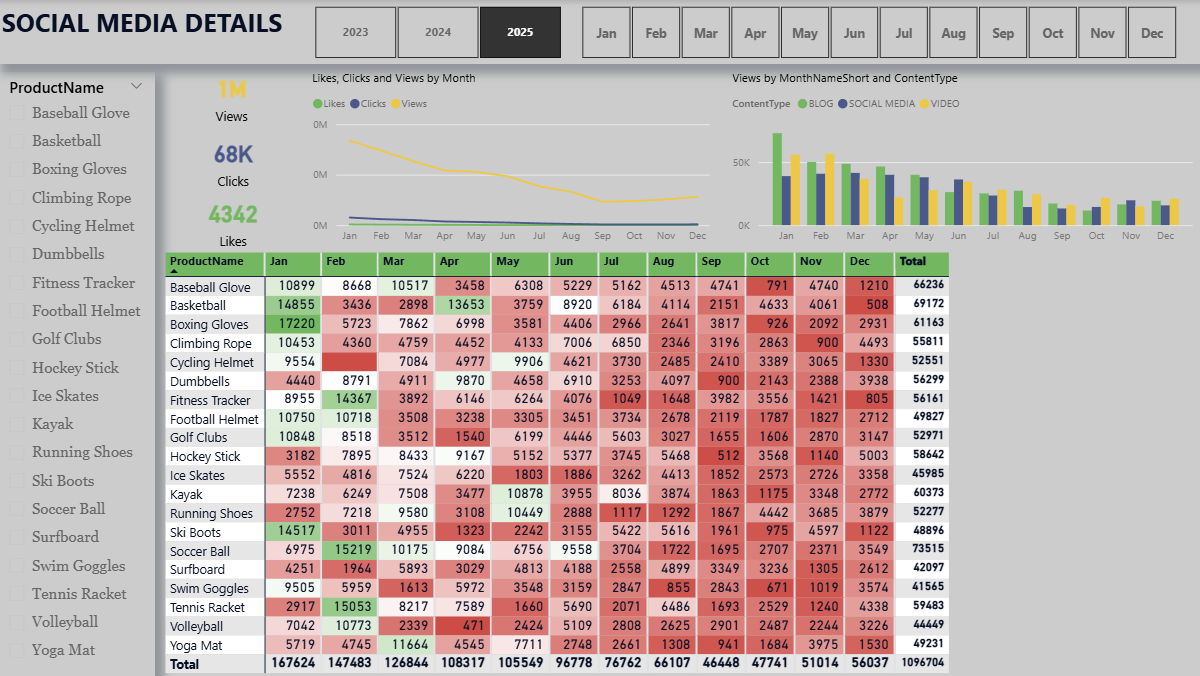

Layout of this report page (visuals, bound fields, positions):
{"tool":"powerbi","page":{"name":"Social Media Details","canvas":[1280,720],"ordinal":2},"visuals":[{"type":"textbox","box":[0,0,1280,68],"z":0},{"type":"slicer","fields":{"Values":["dim_products.ProductName"]},"box":[0,75.6,167.2,643.3],"z":1000},{"type":"card","title":"VIEWS","fields":{"Values":["_measure.Views"]},"box":[173.3,68.3,150,66.7],"z":2000},{"type":"card","title":"CLICKS","fields":{"Values":["_measure.Clicks"]},"box":[173.3,138.3,153.3,65],"z":3000},{"type":"card","title":"LIKES","fields":{"Values":["_measure.Likes"]},"box":[173.3,201.7,153.3,65],"z":4000},{"type":"slicer","fields":{"Values":["Calendar.Date.Variation.Date Hierarchy.Year"]},"box":[311.8,0,310.2,68.4],"z":5000},{"type":"slicer","fields":{"Values":["Calendar.MonthNameShort"]},"box":[594.9,0,679.2,68.4],"z":6000},{"type":"clusteredColumnChart","fields":{"Series":["fact_engagement_data.ContentType"],"Category":["Calendar.MonthNameShort"],"Y":["_measure.Views"]},"box":[775,75,498.3,191.7],"z":7000},{"type":"lineChart","title":"Likes, Clicks and Views by Month","fields":{"Category":["Calendar.MonthNameShort"],"Y":["_measure.Likes","_measure.Clicks","_measure.Views"]},"box":[330,75,431.7,191.7],"z":8000},{"type":"pivotTable","fields":{"Rows":["dim_products.ProductName","fact_engagement_data.ContentType"],"Values":["_measure.Views"],"Columns":["Calendar.MonthNameShort"]},"box":[173.4,262.5,851,458.1],"z":9000}]}

Visuals, with their boxes in screenshot pixels (x1, y1, x2, y2), scaled from the page's 1280x720 canvas onto the 1200x676 screenshot:
textbox: (0, 0, 1199, 64)
slicer - dim_products.ProductName: (0, 71, 157, 675)
"VIEWS" card: (162, 64, 303, 127)
"CLICKS" card: (162, 130, 306, 191)
"LIKES" card: (162, 189, 306, 250)
slicer - Calendar.Date.Variation.Date Hierarchy.Year: (292, 0, 583, 64)
slicer - Calendar.MonthNameShort: (558, 0, 1194, 64)
clusteredColumnChart - fact_engagement_data.ContentType x Calendar.MonthNameShort: (727, 70, 1194, 250)
"Likes, Clicks and Views by Month" lineChart: (309, 70, 714, 250)
pivotTable - dim_products.ProductName x fact_engagement_data.ContentType: (163, 246, 960, 675)
